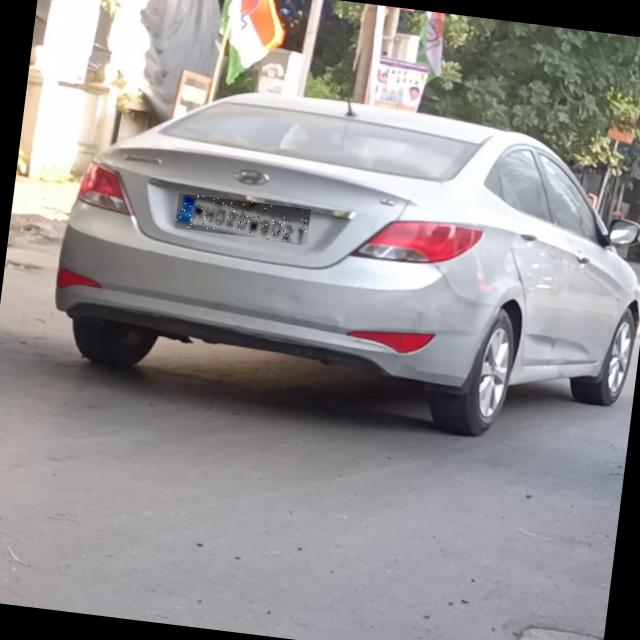Plate: (176, 194, 312, 245)
